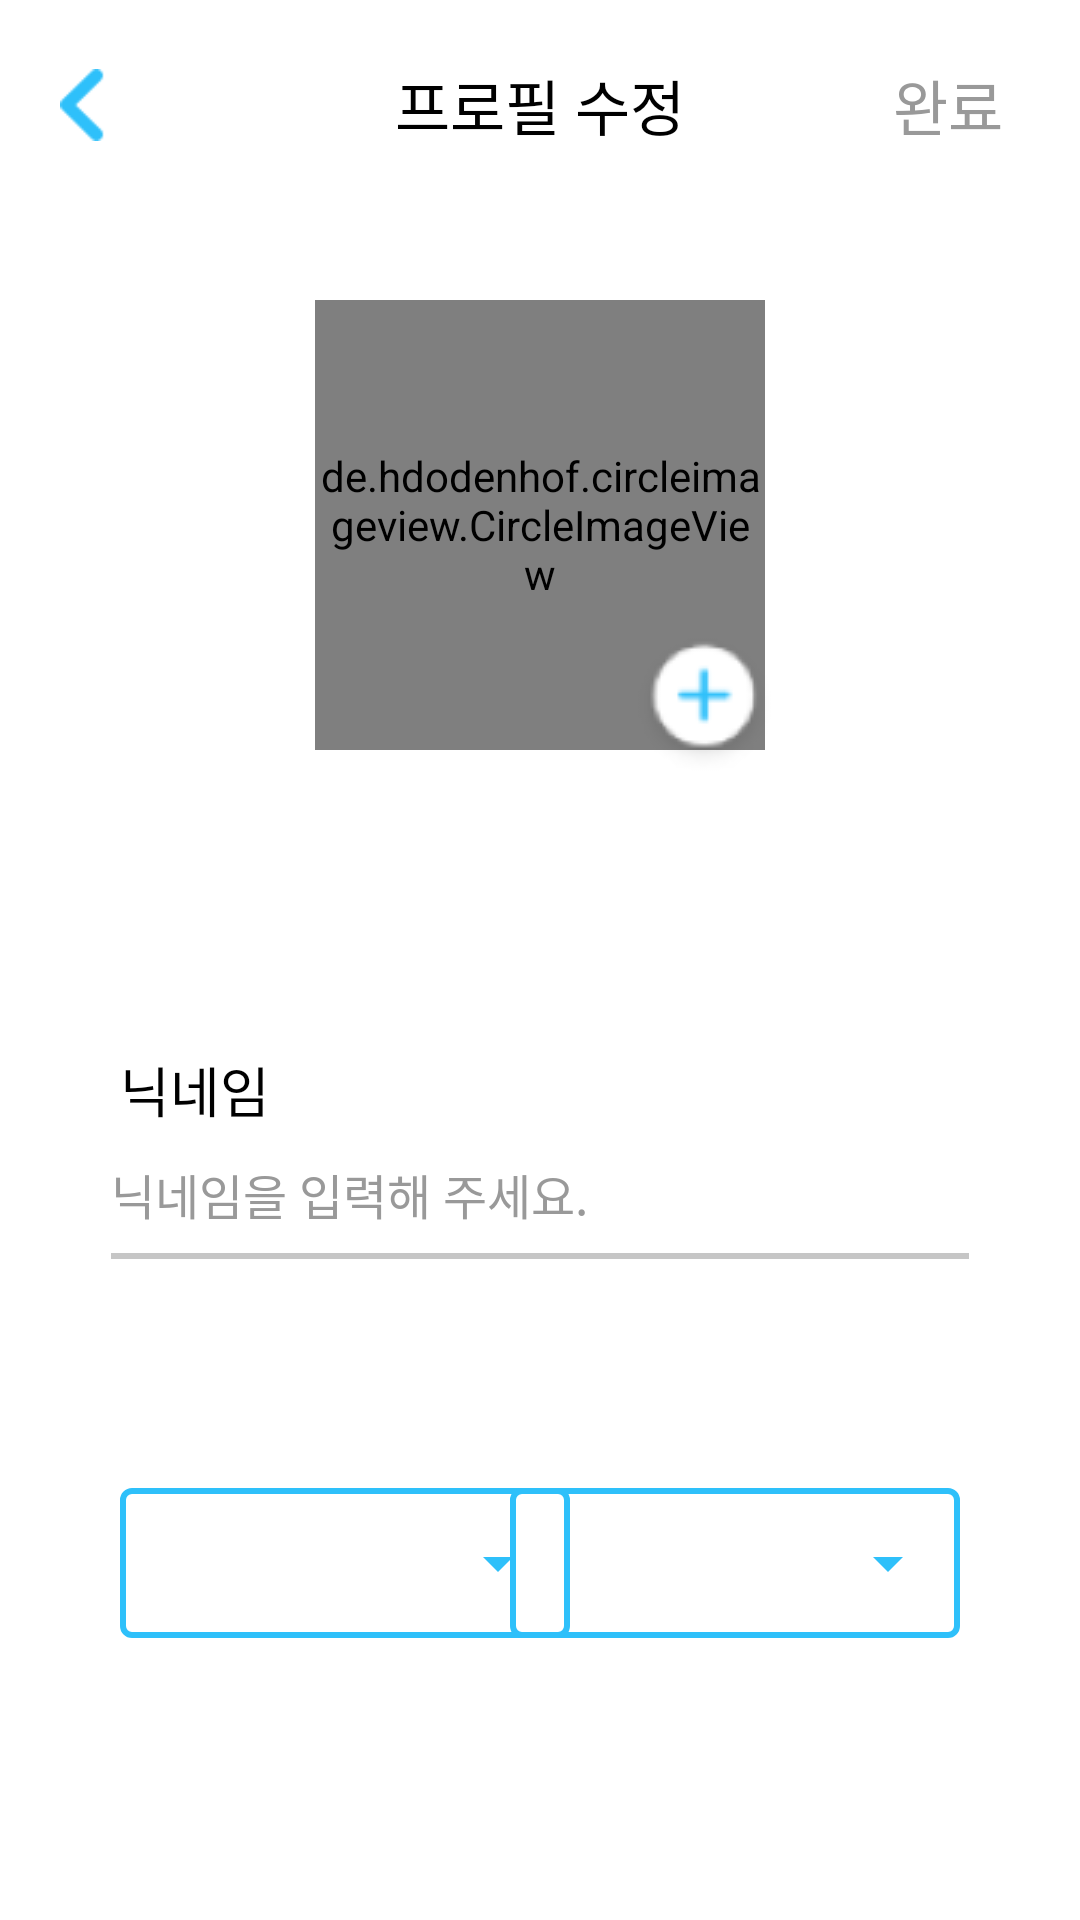

Icon click points for this 1080px×1920px phone screenshot, format [x,y]:
back: [82,105]
profile add: [705,705]
